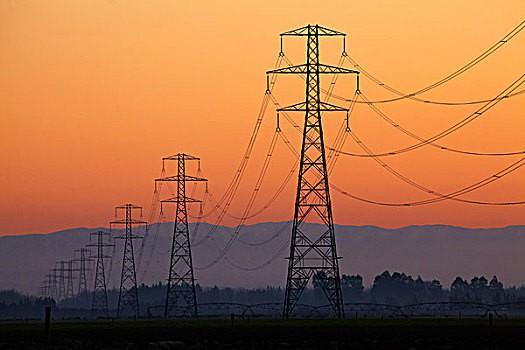power_tower: (262, 20, 370, 327), (152, 150, 228, 320), (110, 193, 148, 314), (90, 223, 114, 315), (72, 240, 94, 300)
